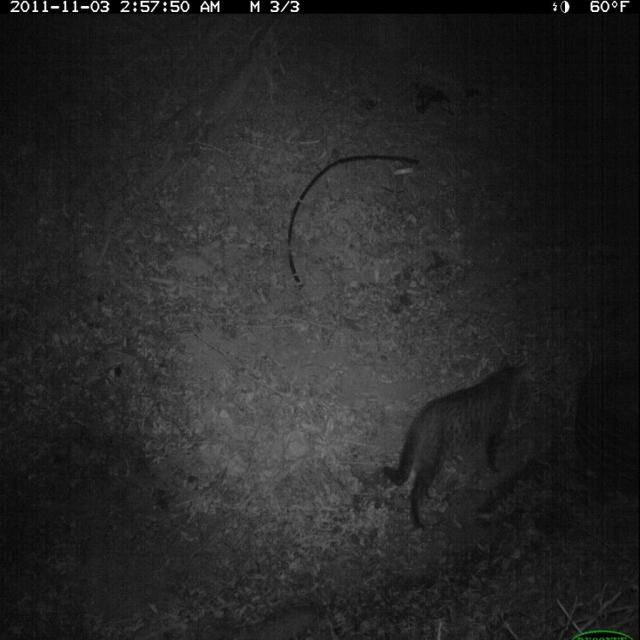cat: (379, 348, 537, 541)
